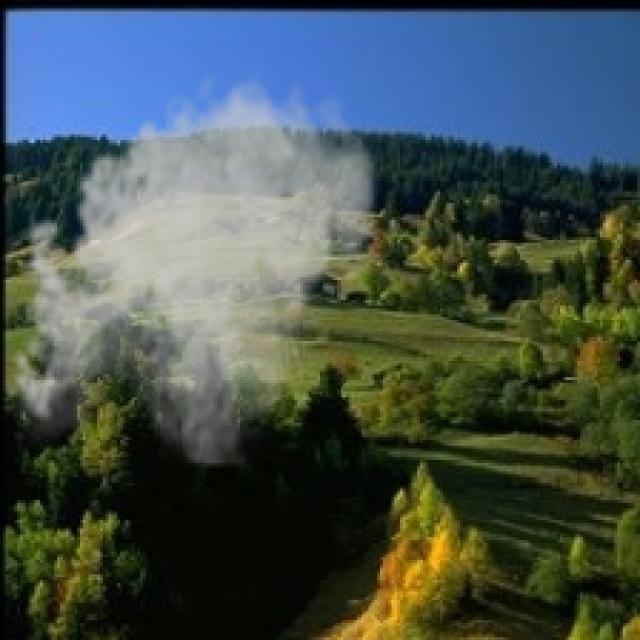smoke: (0, 66, 386, 468)
